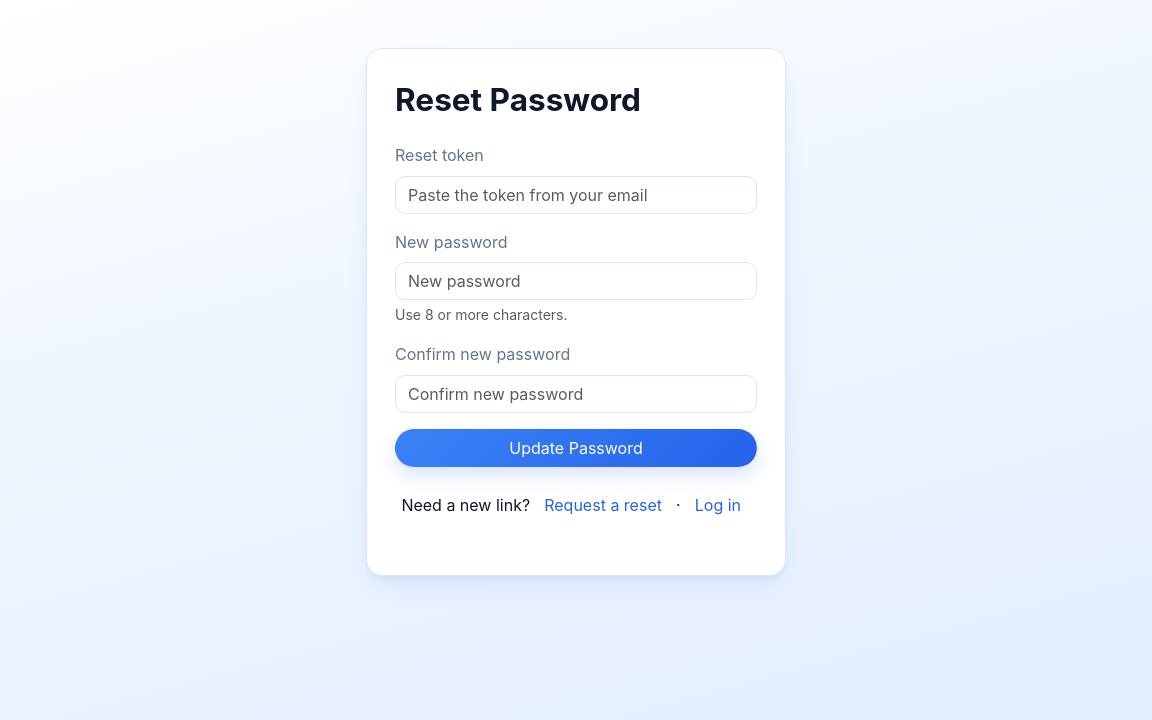
Test: ResetPassword Page › asks for the token when the URL has none
Type "longenough1" into the password field labelled "New password" at (576, 282), box top-left (395, 262), bottom-right (757, 300)
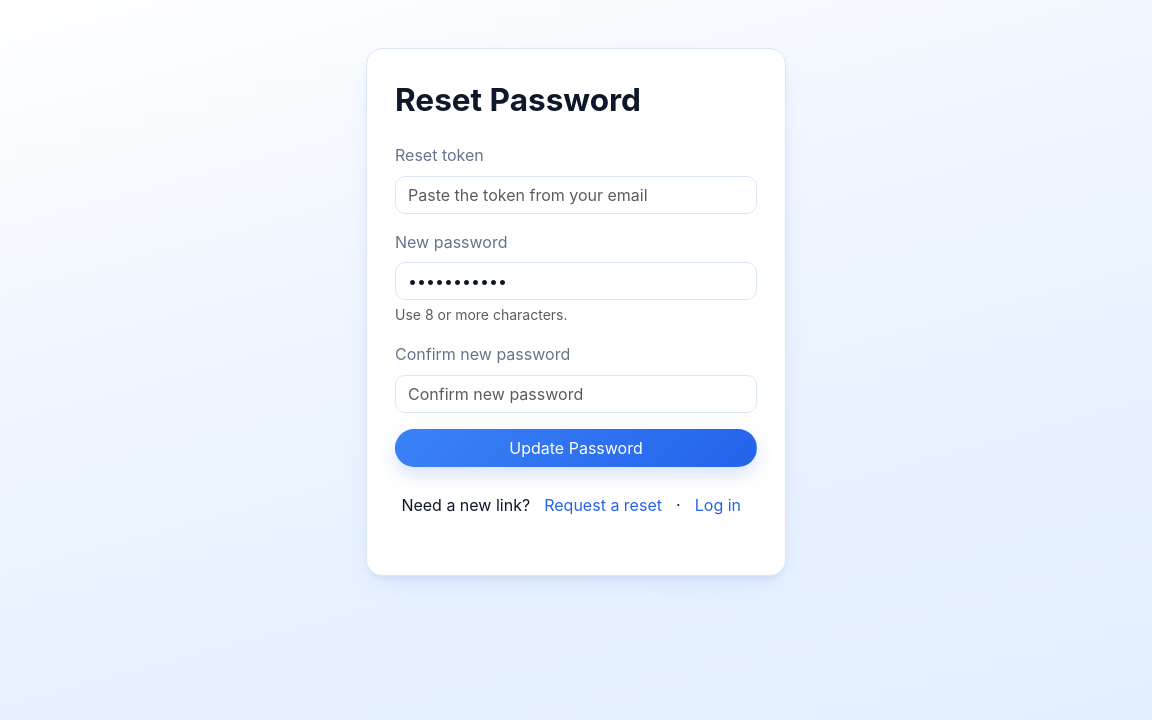
Type "longenough1" into the password field labelled "Confirm new password" at (576, 394), box top-left (395, 375), bottom-right (757, 413)
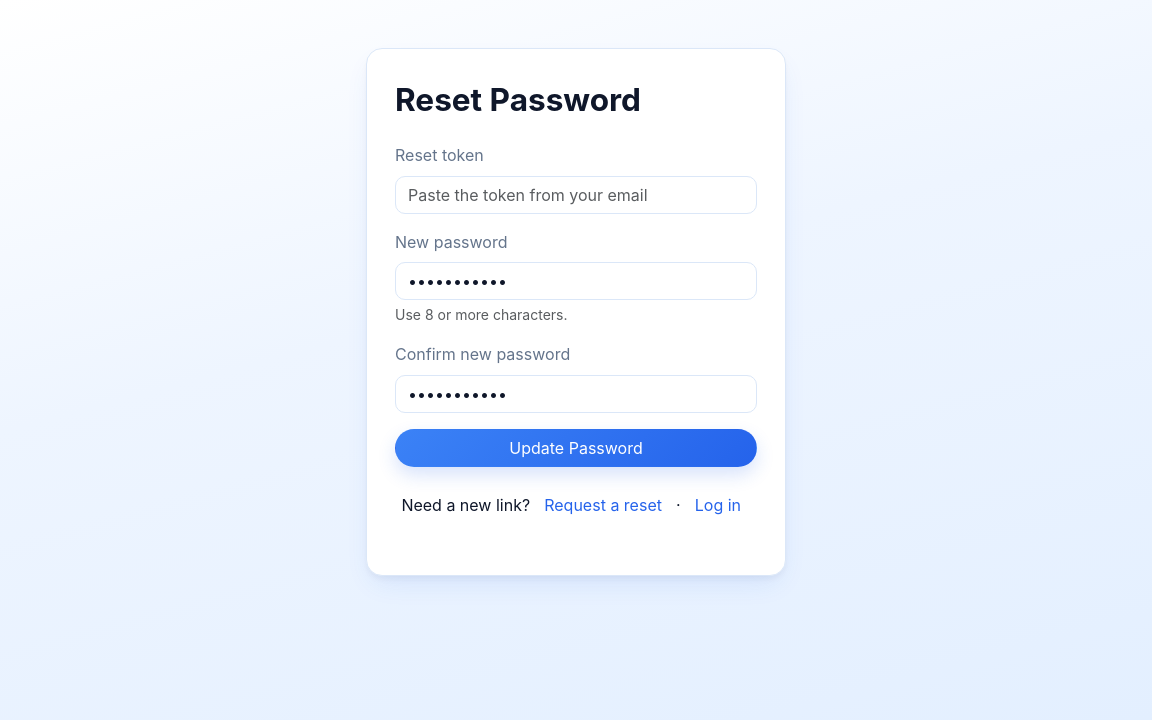
Click the button "Update Password" at (576, 448), box top-left (395, 429), bottom-right (757, 467)
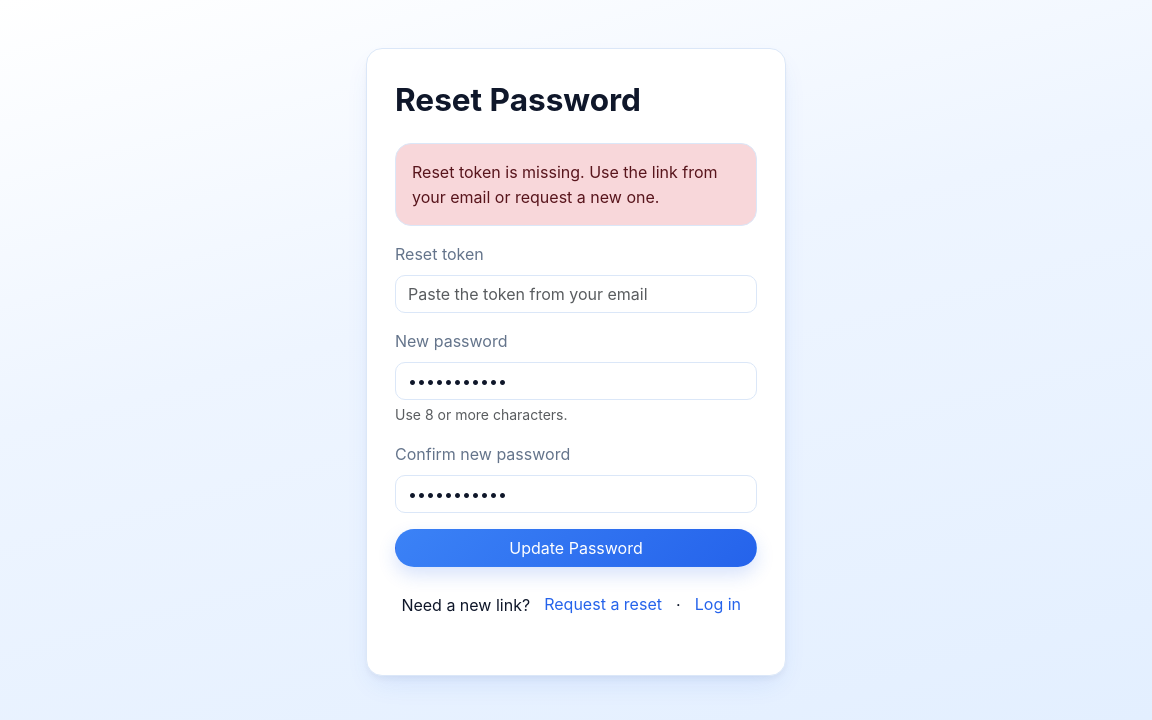
expect the field labelled "Reset token" is shown: met, box top-left (395, 275), bottom-right (757, 313)
expect the text "Reset token is missing" is shown: met, box top-left (412, 162), bottom-right (718, 207)
